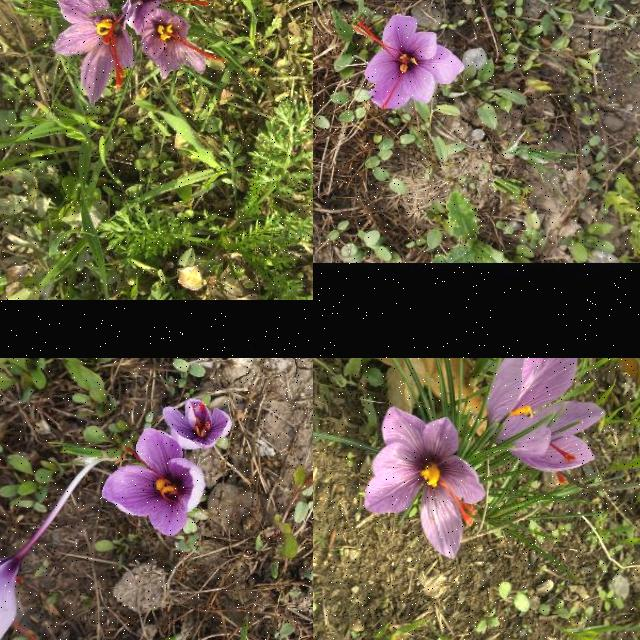flower: (365, 406, 487, 560), (486, 358, 607, 484), (103, 429, 207, 537), (354, 14, 464, 110), (53, 0, 134, 107), (0, 557, 45, 640), (162, 400, 234, 450)
overlap: (121, 0, 225, 109)
